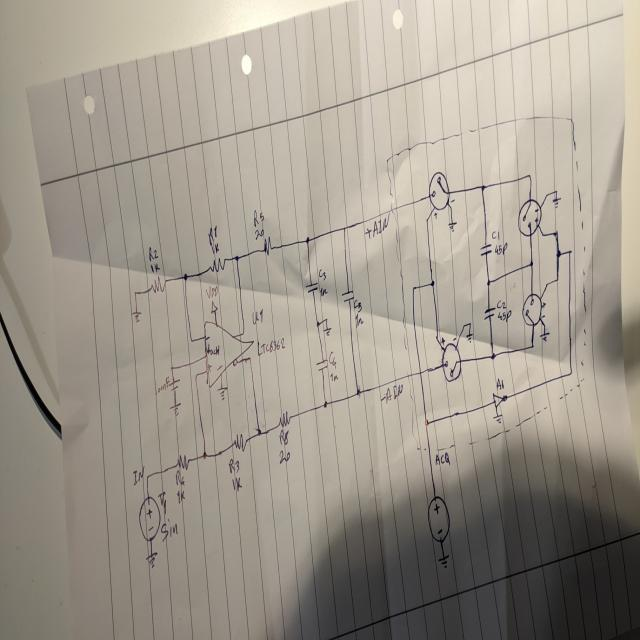capacitor: (341, 288, 354, 303), (483, 306, 496, 321), (479, 242, 492, 256), (315, 358, 328, 372), (305, 281, 318, 294), (168, 378, 180, 392)
crossover: (418, 367, 422, 377)
ground: (145, 551, 158, 568), (216, 386, 228, 401), (438, 553, 450, 568), (169, 401, 181, 416), (130, 310, 142, 323), (539, 331, 550, 342), (552, 196, 562, 208), (447, 220, 457, 232), (322, 326, 332, 336), (494, 413, 503, 423), (465, 333, 473, 343)
junction: (555, 248, 562, 258), (256, 427, 262, 437), (528, 258, 534, 268), (480, 182, 486, 192), (526, 171, 532, 181), (553, 228, 559, 238), (182, 272, 188, 281), (568, 367, 573, 377), (430, 278, 435, 288), (202, 450, 207, 460), (486, 277, 491, 287), (567, 246, 572, 256), (424, 418, 429, 427), (490, 351, 495, 360), (410, 283, 415, 292), (342, 224, 347, 233), (323, 399, 327, 409), (305, 236, 310, 244), (169, 363, 174, 371), (356, 387, 360, 397), (189, 336, 194, 344), (530, 341, 534, 350), (234, 253, 238, 262), (555, 274, 559, 283), (434, 333, 438, 341), (145, 472, 149, 480), (316, 320, 320, 328), (133, 289, 137, 296), (194, 372, 198, 379), (248, 354, 252, 360), (242, 330, 246, 336), (544, 281, 548, 287), (554, 189, 558, 194), (425, 217, 429, 222), (468, 321, 472, 326), (325, 316, 328, 322), (541, 232, 544, 238), (543, 322, 546, 328), (449, 205, 453, 209), (462, 323, 465, 328), (545, 193, 547, 198)
resistor: (149, 275, 166, 294), (207, 256, 226, 273), (232, 432, 247, 452), (278, 410, 291, 428), (176, 453, 189, 470), (263, 235, 272, 256)
source: (427, 494, 450, 543), (138, 495, 160, 542), (210, 299, 218, 314)
switch: (439, 335, 463, 383), (426, 170, 451, 215), (517, 197, 542, 238), (521, 292, 546, 328)
text: (364, 210, 390, 239), (257, 335, 285, 356), (380, 382, 403, 404), (160, 517, 178, 542), (154, 374, 170, 396), (132, 464, 144, 486), (434, 451, 450, 467), (253, 208, 264, 228), (494, 241, 508, 256), (252, 308, 264, 325), (228, 457, 240, 474), (278, 428, 289, 446), (208, 224, 217, 246), (497, 308, 511, 322), (158, 491, 166, 514), (205, 285, 218, 299), (328, 349, 337, 369), (279, 448, 290, 464), (175, 469, 185, 486), (354, 312, 364, 329), (148, 245, 158, 261), (232, 476, 242, 492), (206, 342, 218, 355), (353, 298, 362, 313), (177, 489, 186, 504), (254, 228, 264, 240), (150, 261, 160, 273), (318, 268, 326, 281), (496, 377, 504, 390), (216, 361, 224, 374), (496, 299, 506, 309), (491, 230, 500, 241), (319, 286, 328, 297), (329, 371, 338, 382), (211, 242, 219, 254), (206, 362, 212, 374), (540, 300, 546, 310), (440, 336, 446, 346), (432, 210, 438, 220), (450, 195, 456, 205), (540, 312, 546, 320), (205, 333, 210, 341), (452, 334, 457, 342), (534, 215, 538, 225), (534, 206, 539, 213)
